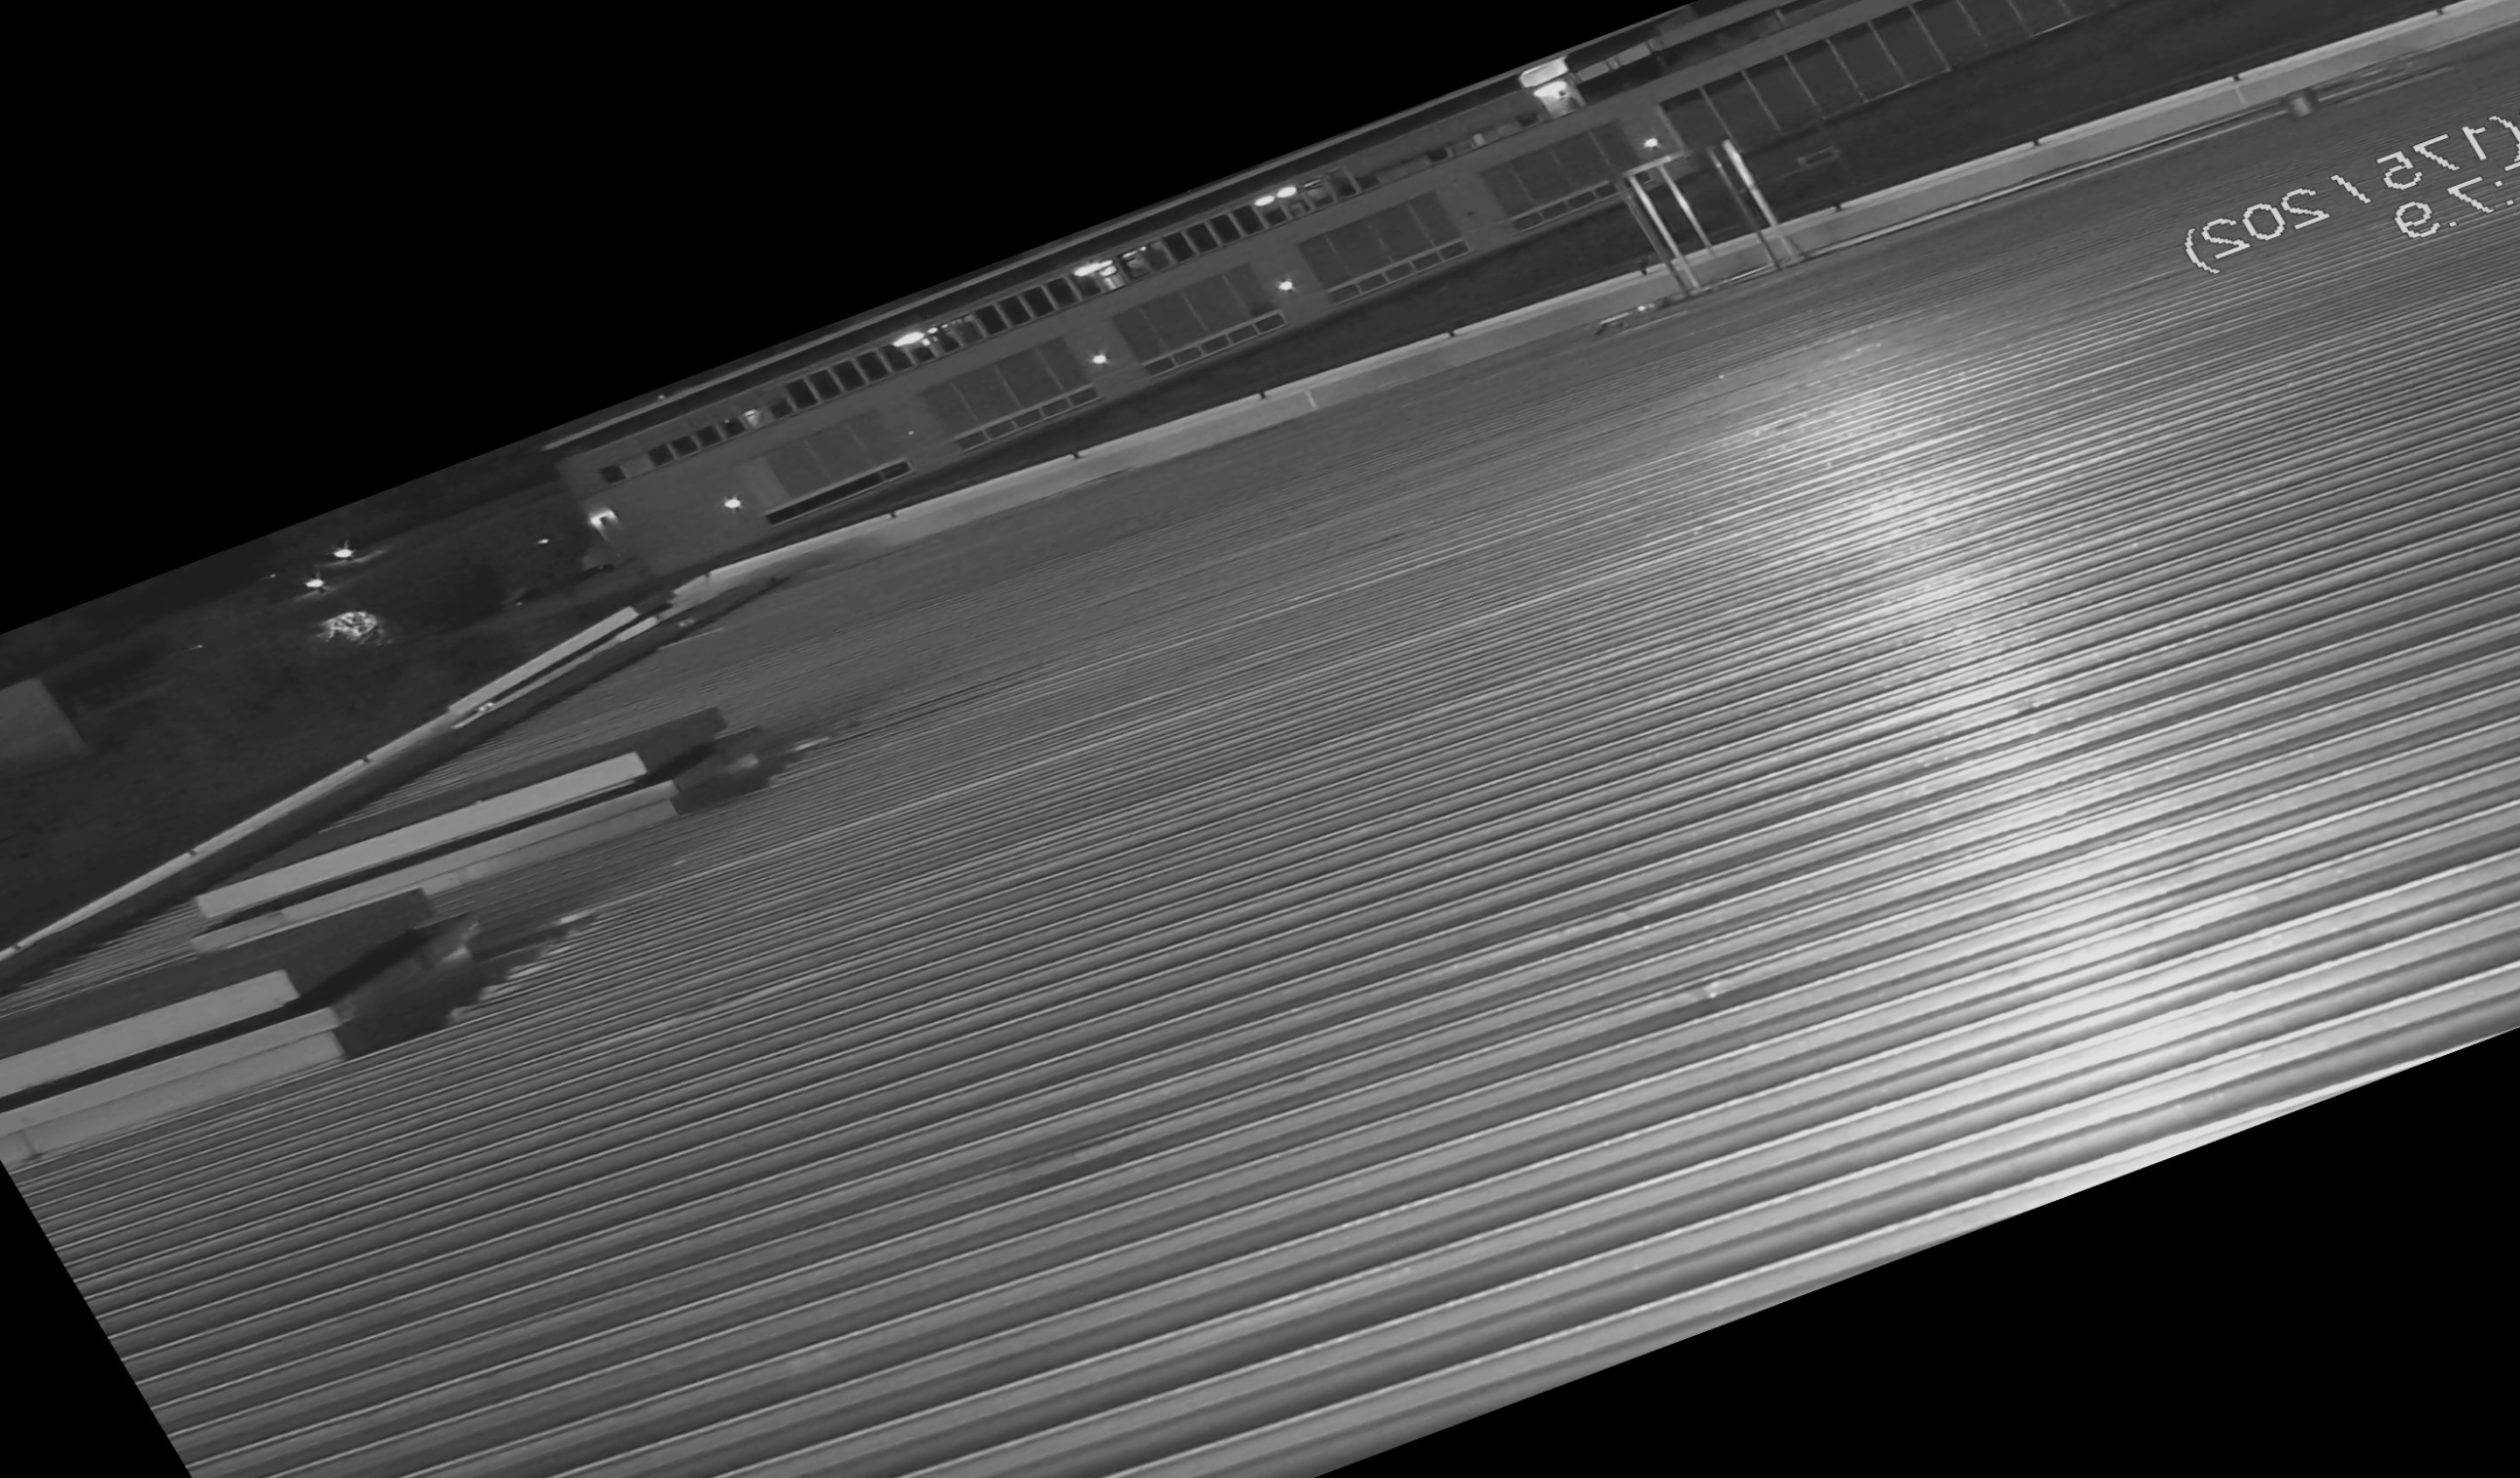Other: (243, 883, 540, 1075)
